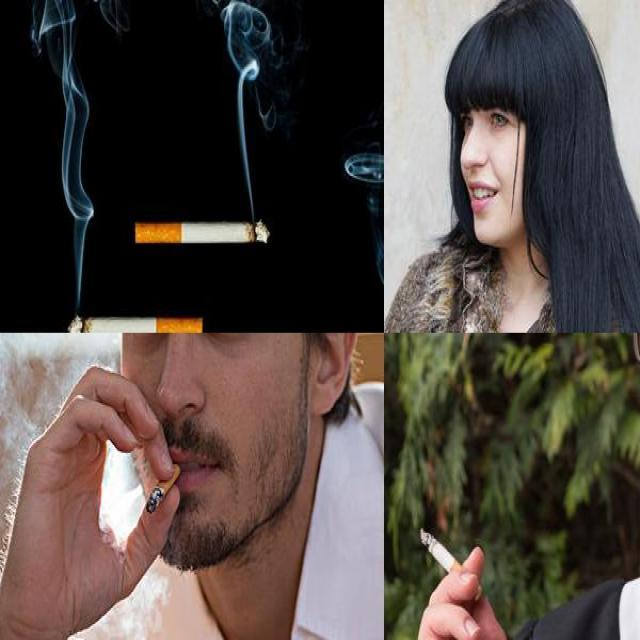cigarette: (412, 518, 482, 600), (133, 220, 270, 247), (144, 449, 186, 516), (66, 314, 205, 332)
